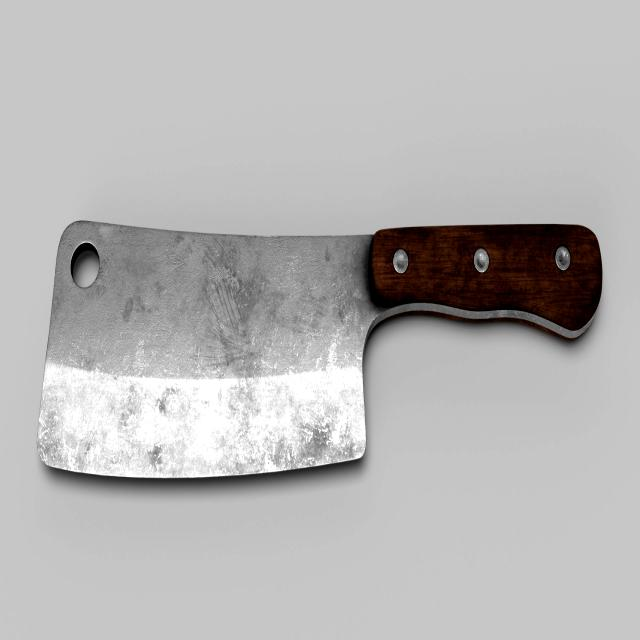cleaver: (36, 224, 600, 482)
